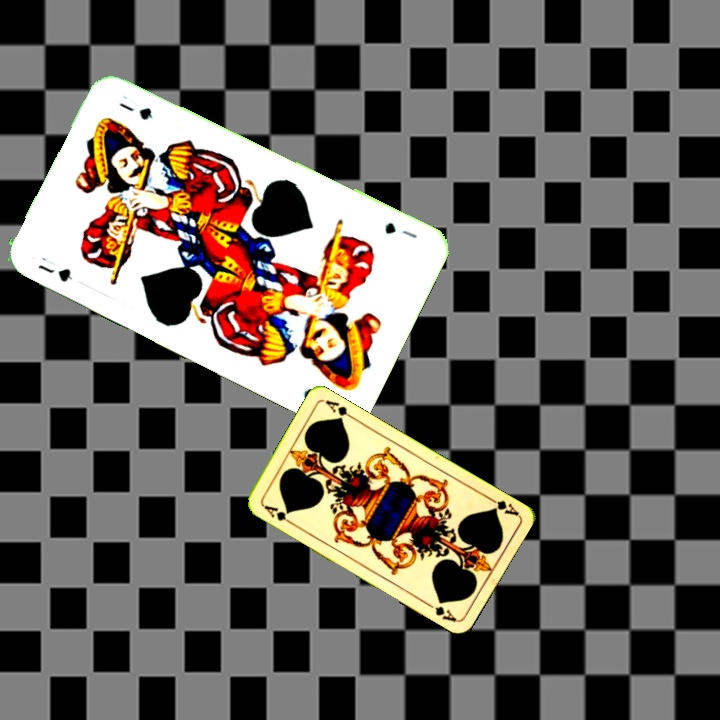GA: (483, 492, 521, 518), (259, 501, 296, 527)
GU: (34, 260, 76, 285), (380, 218, 420, 242)
